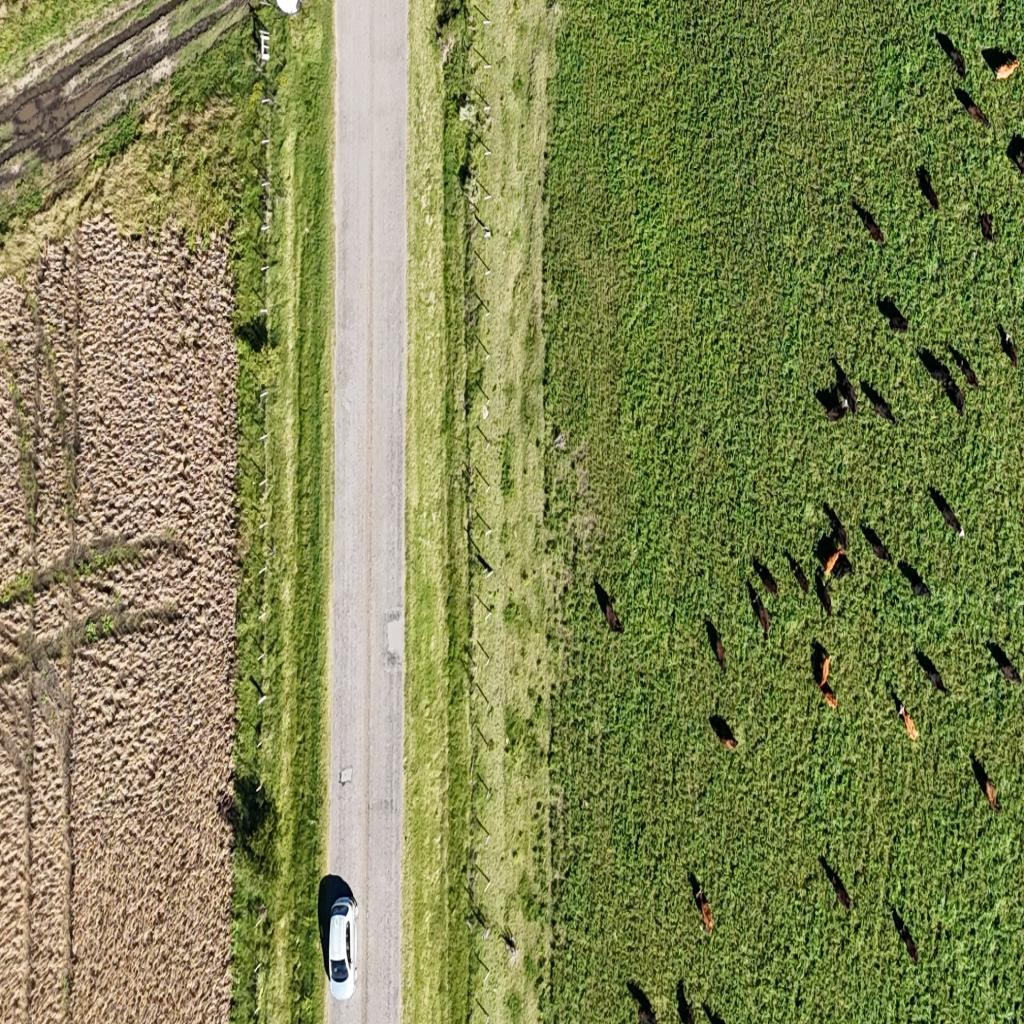cow: (918, 350, 965, 418), (814, 526, 852, 609), (980, 176, 1018, 243), (817, 358, 856, 423), (819, 855, 852, 911), (812, 642, 838, 712), (971, 752, 1001, 812), (892, 686, 923, 743), (935, 30, 968, 83), (930, 486, 964, 536), (915, 646, 949, 694), (596, 580, 625, 634), (953, 84, 987, 130), (860, 381, 896, 424), (989, 642, 1023, 687), (853, 201, 886, 247), (892, 909, 919, 963), (822, 500, 849, 554), (746, 582, 770, 642), (691, 874, 715, 932), (706, 618, 728, 680), (950, 346, 981, 390), (628, 979, 658, 1024), (900, 561, 932, 603), (980, 46, 1019, 80), (862, 522, 893, 564), (753, 557, 781, 600), (878, 295, 909, 333), (996, 322, 1020, 370), (786, 552, 810, 596), (917, 166, 940, 211), (675, 981, 697, 1024), (712, 717, 738, 752), (815, 569, 833, 619), (1005, 134, 1024, 178), (702, 996, 728, 1024), (980, 211, 994, 242), (689, 872, 703, 903)
